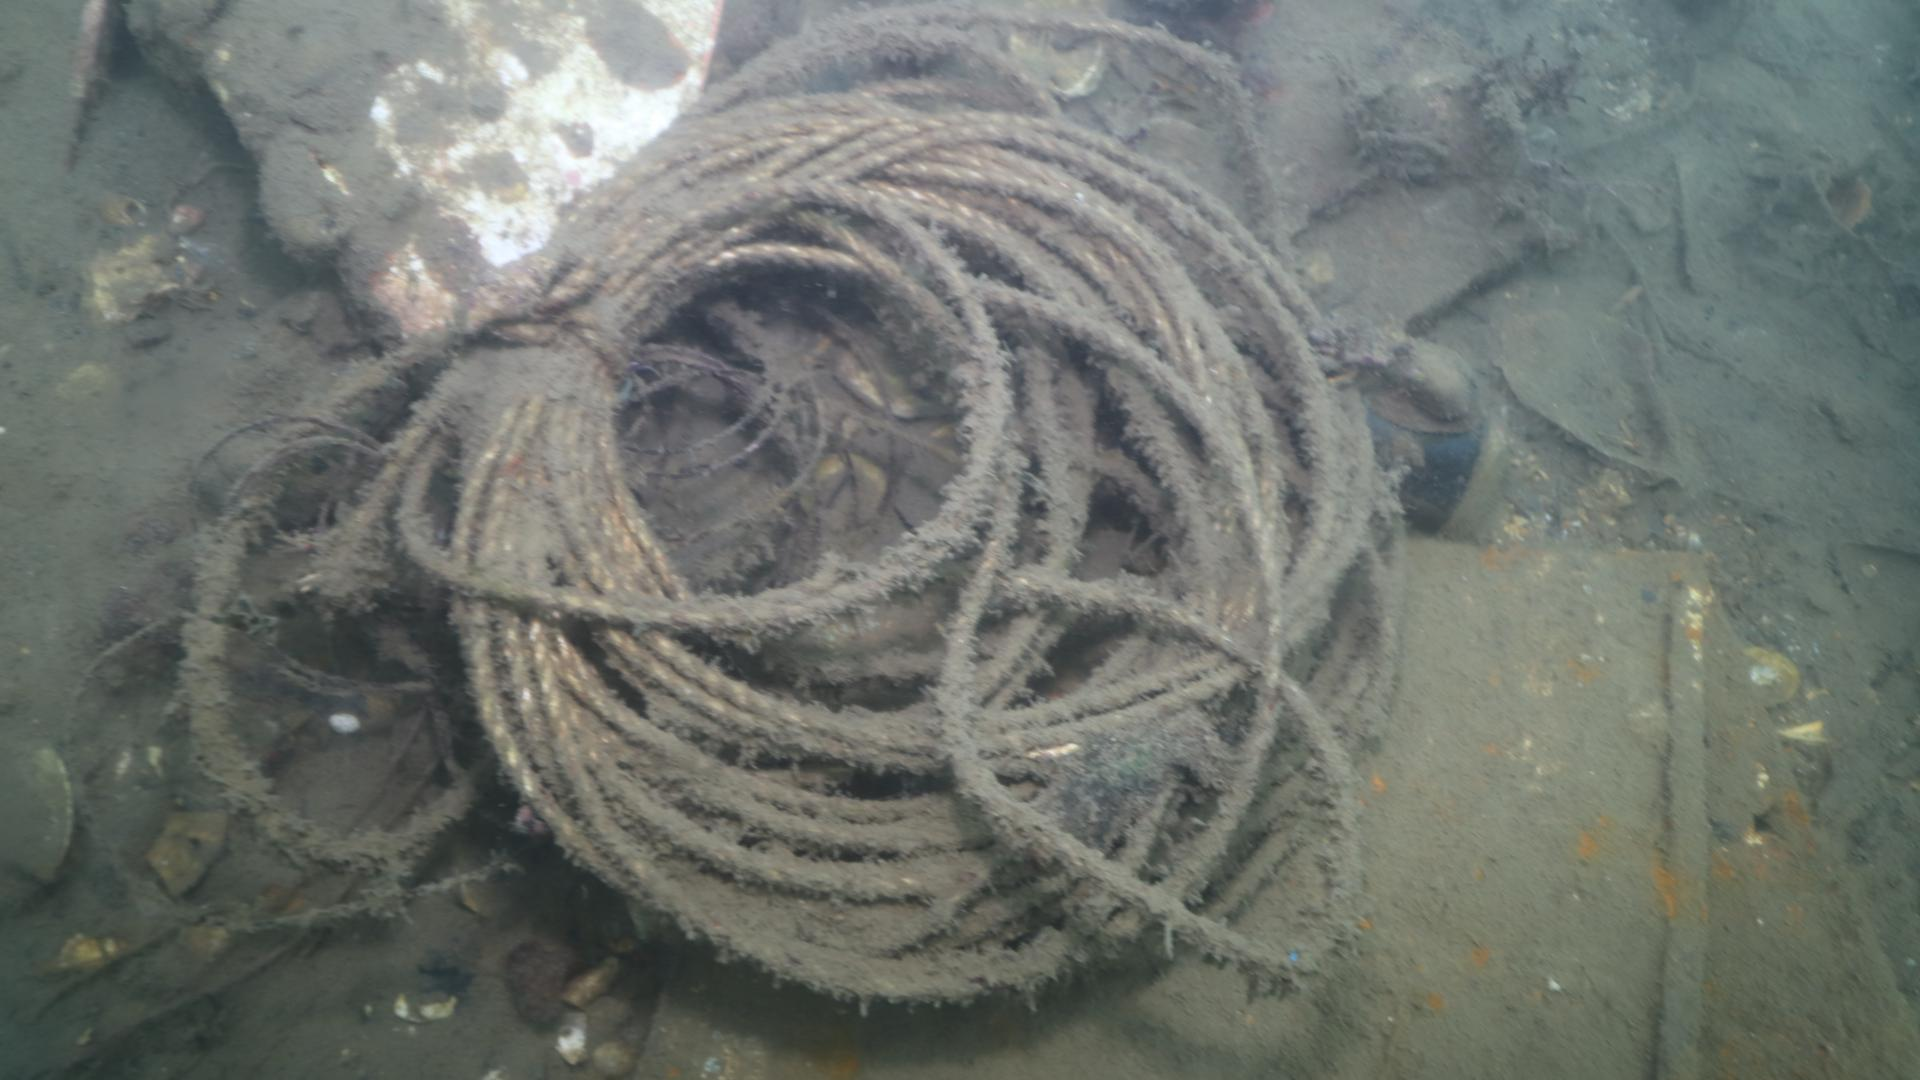bundle of ropes: (175, 7, 1404, 1004)
